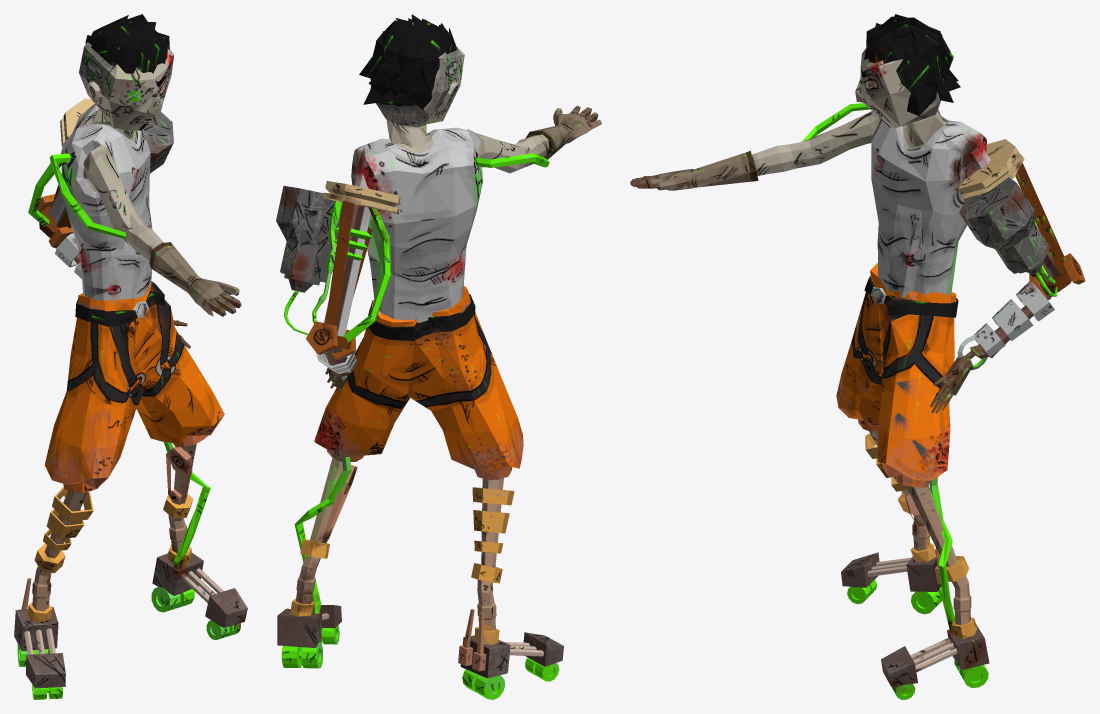
File: CyborgFINALAnimation_000008.obj
3 renders of one model, left to right at view 1: azimuth 30°, elevation 25°; view 2: azimuth 150°, elevation 25°; view 3: azimuth 270°, elevation 25°, orthographic. The views are drawn at different scales.
Visible parts, largest first — view 1: CyborgMesh_Cube.002; view 2: CyborgMesh_Cube.002; view 3: CyborgMesh_Cube.002.
Boxes of the visible parts, x1=… form: CyborgMesh_Cube.002: x1=14, y1=14, x2=247, y2=699; CyborgMesh_Cube.002: x1=276, y1=14, x2=601, y2=699; CyborgMesh_Cube.002: x1=630, y1=14, x2=1085, y2=699.
Bounding box in the file's own units: 3.62 × 9.6 × 6.28.
